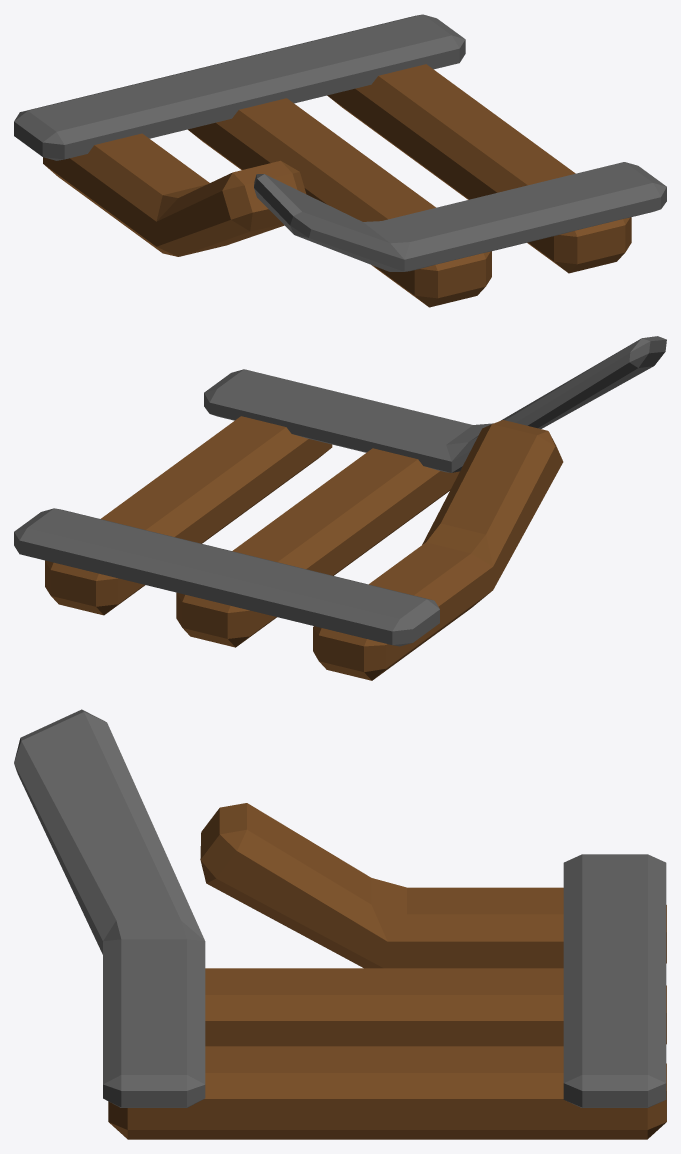
The model's file is rail2.fbx.
The picture shows the model from 3 angles, top to bottom: view 1: azimuth 30°, elevation 25°; view 2: azimuth 150°, elevation 25°; view 3: azimuth 270°, elevation 25°; orthographic projection. The views are drawn at different scales.
Parts seen in each view (by area): view 1: Cube.004; view 2: Cube.004; view 3: Cube.004.
Part boxes in pixels (box(x1,y1,x2,y2)): Cube.004: box(14, 14, 666, 307); Cube.004: box(14, 336, 666, 680); Cube.004: box(14, 709, 666, 1139).
Bounding box in the file's own units: 154 × 66.15 × 178.
